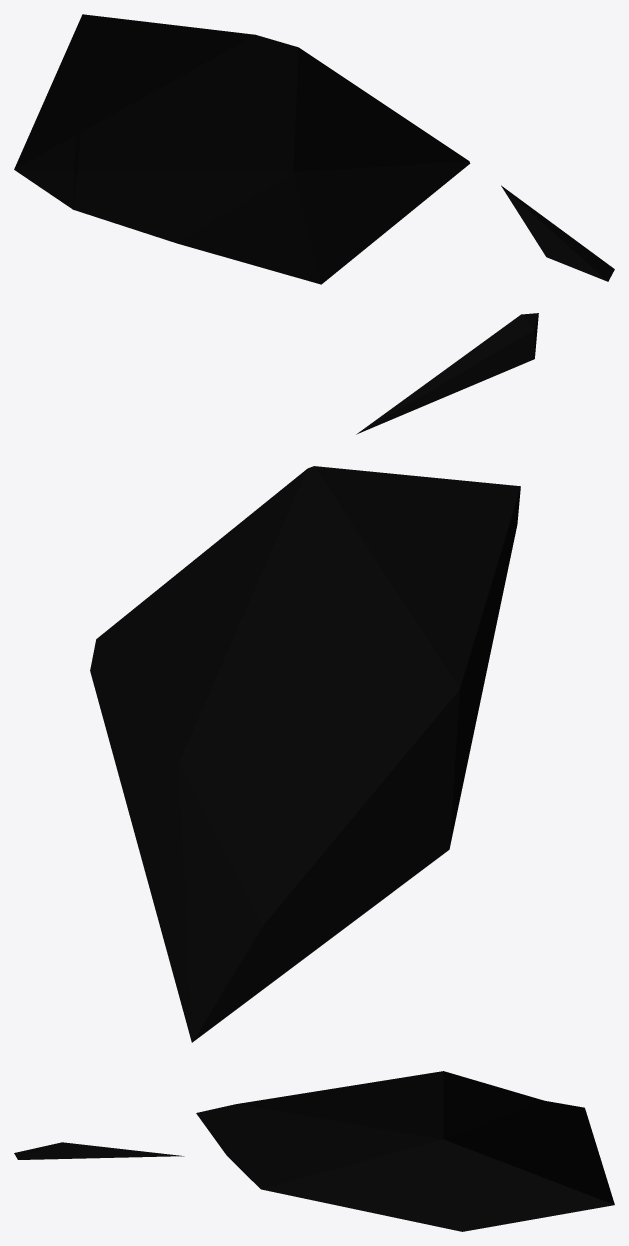
3 views of the same model, one above another, from view 1: azimuth 30°, elevation 25°; view 2: azimuth 150°, elevation 25°; view 3: azimuth 270°, elevation 25° (orthographic). The views are drawn at different scales.
Size of the model in its own units: 0.1676 by 0.1093 by 0.4921.
Materials: 1 (1 with a texture image).
